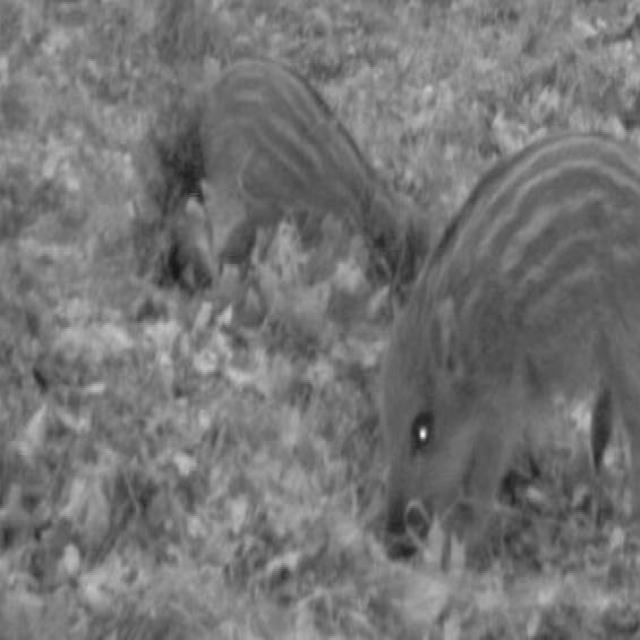pig: (366, 125, 640, 562), (136, 30, 424, 314)
